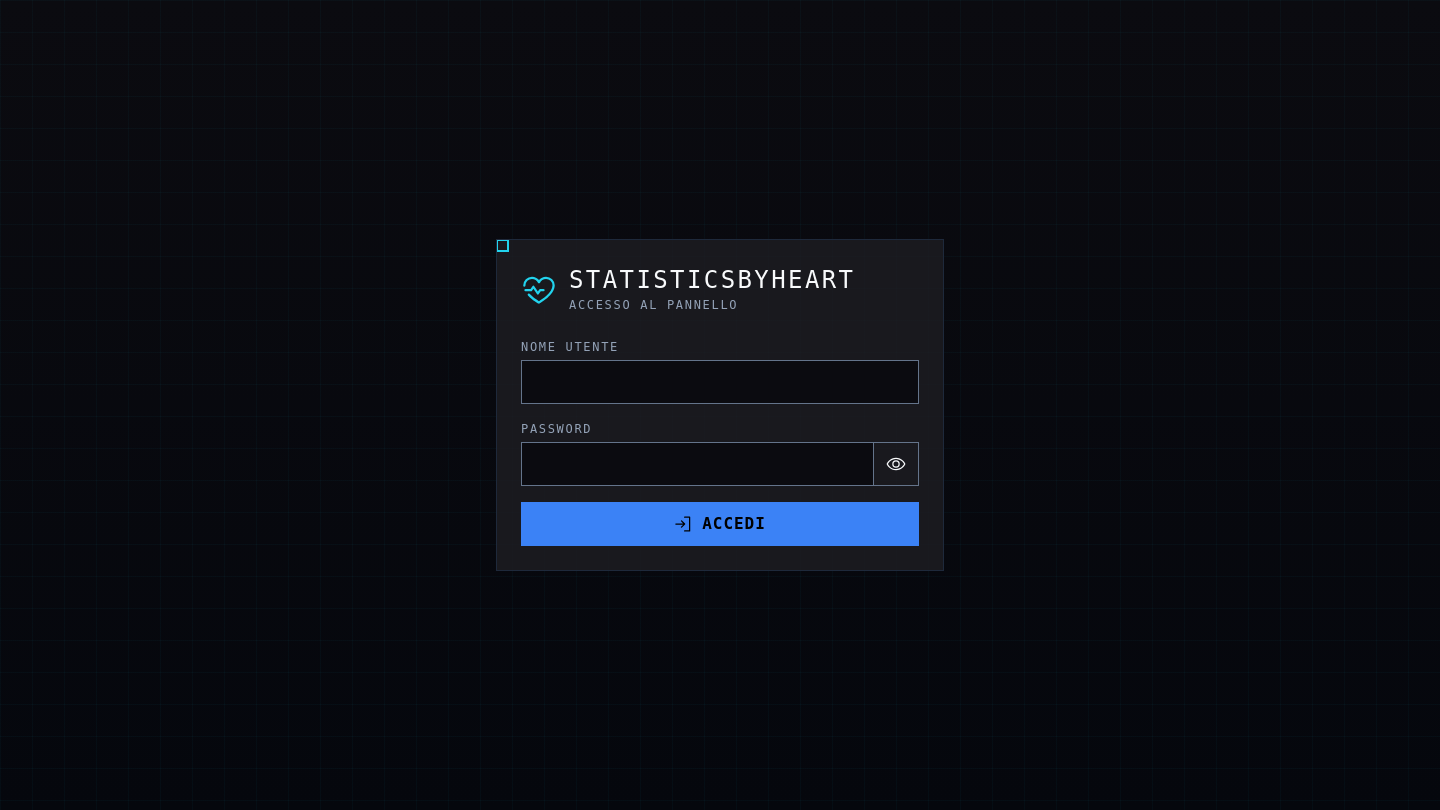
it: login › shows an alert for wrong credentials and allows reveal/paste
Type "admin" into the field labelled "Nome utente" at (720, 382), box [521, 360, 919, 404]
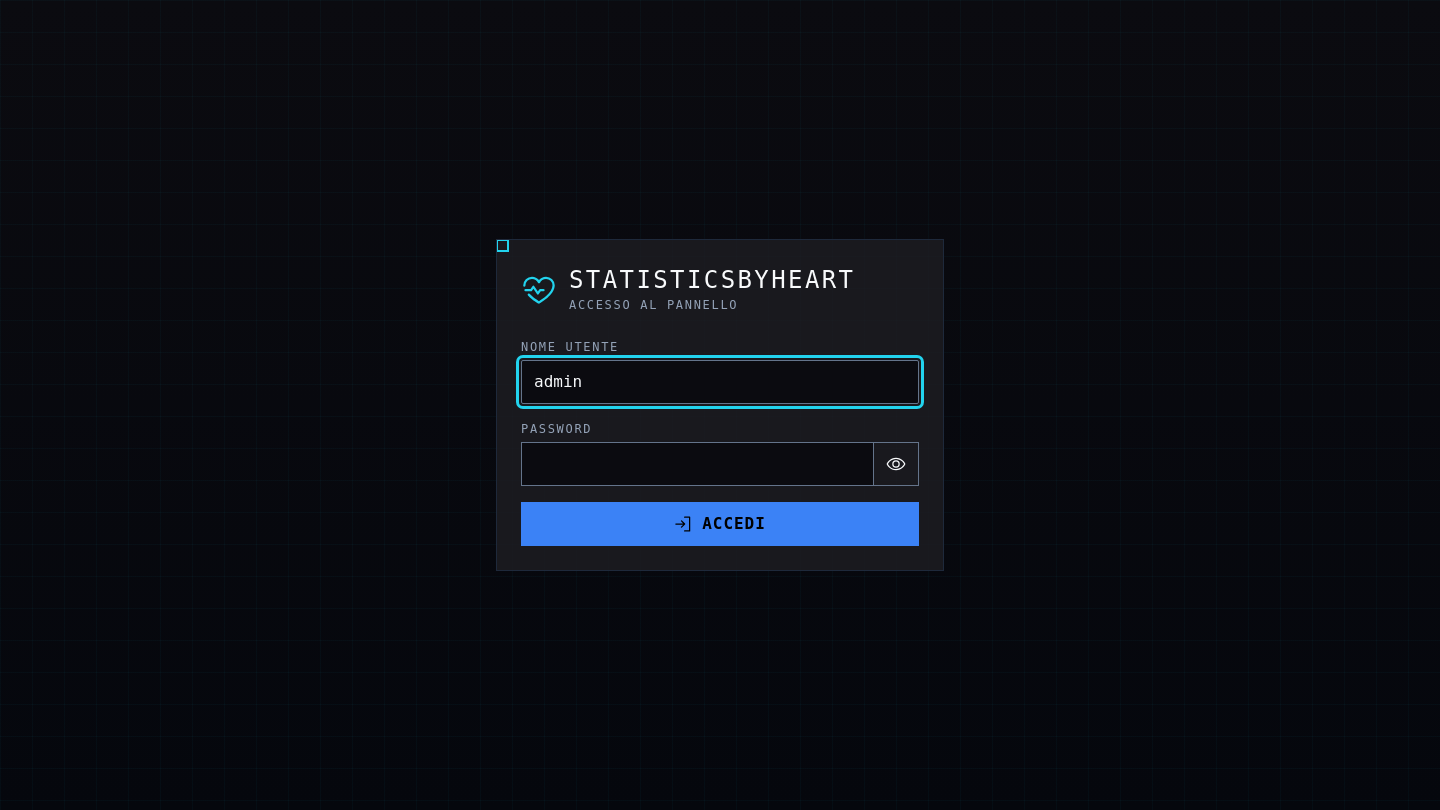
Click the password field labelled "Password" at (698, 464), box [521, 442, 874, 486]
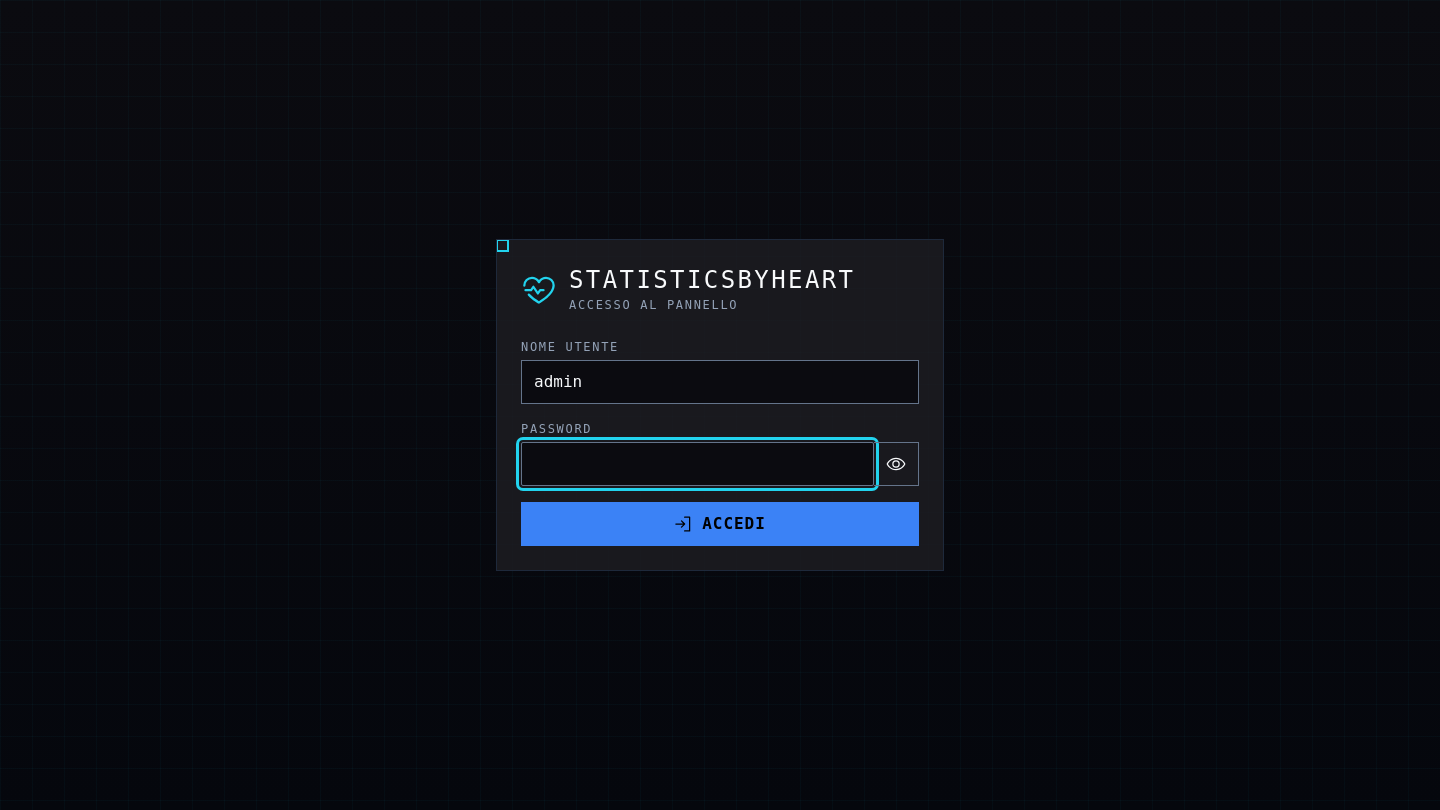
Type keys "segreta"
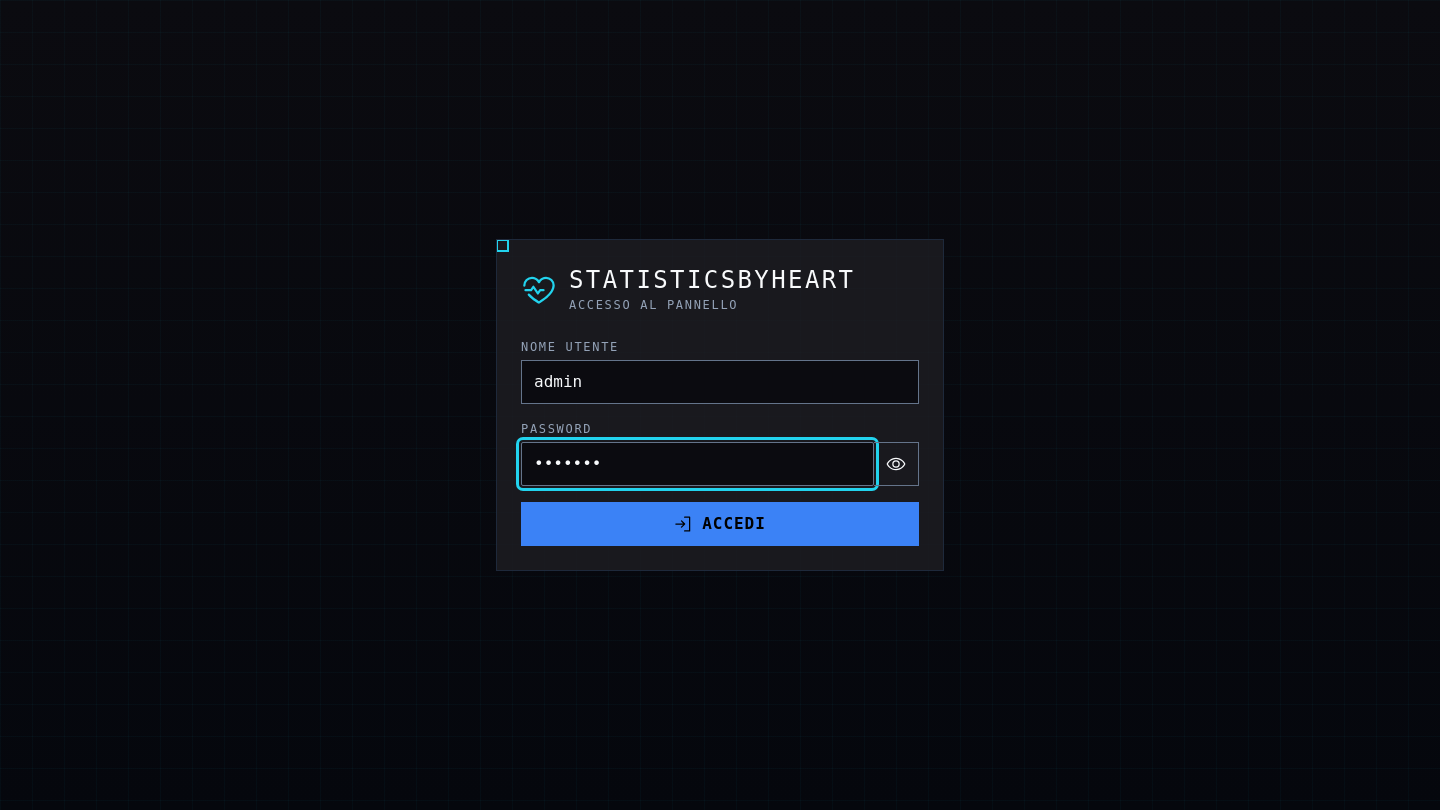
Expected: the password field labelled "Password" holds "segreta", [521, 442, 874, 486]
Click the button named "Mostra password" at (896, 464), box [874, 442, 919, 486]
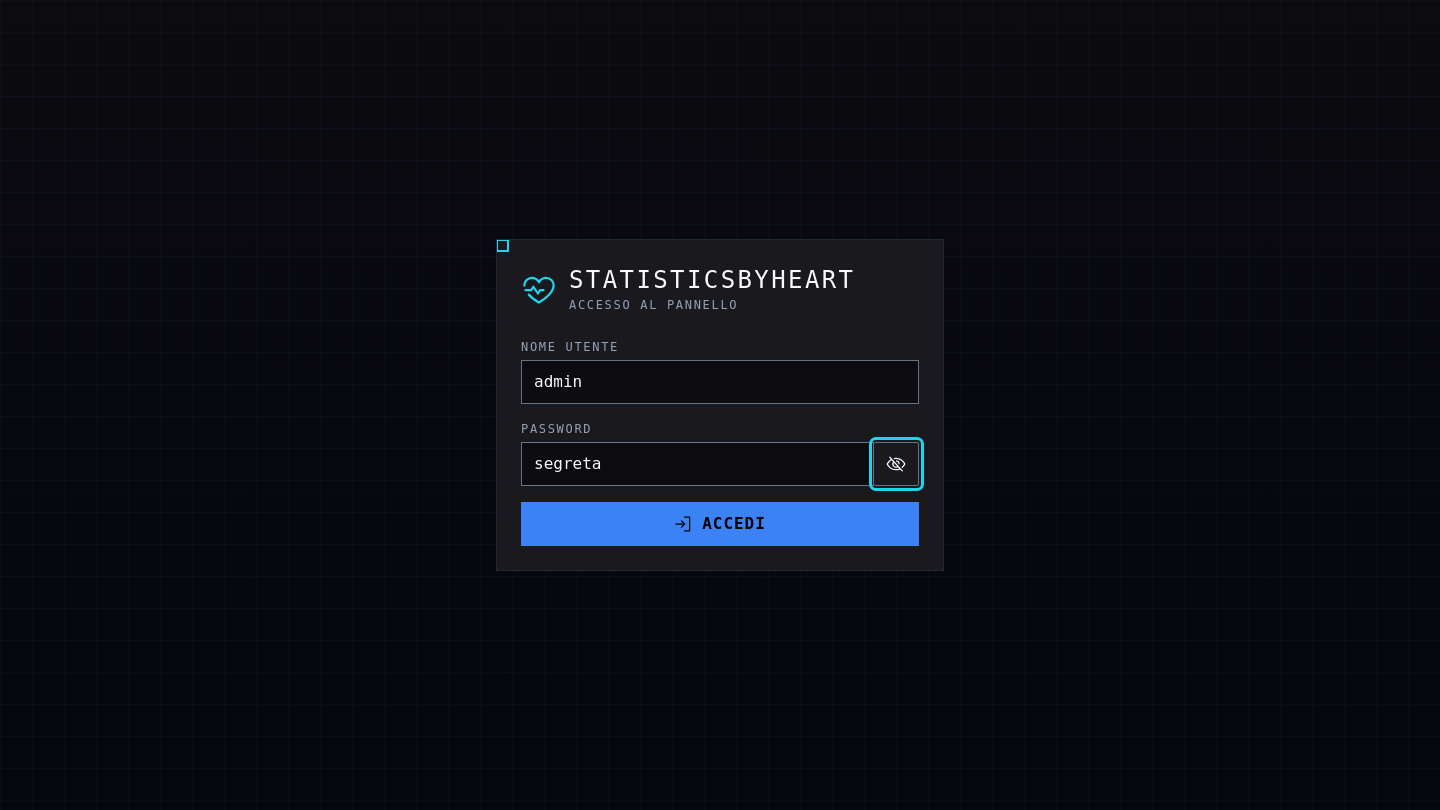
Expected: the field labelled "Password" shows its text, [521, 442, 874, 486]
Click the button "Accedi" at (720, 524), box [521, 502, 919, 546]
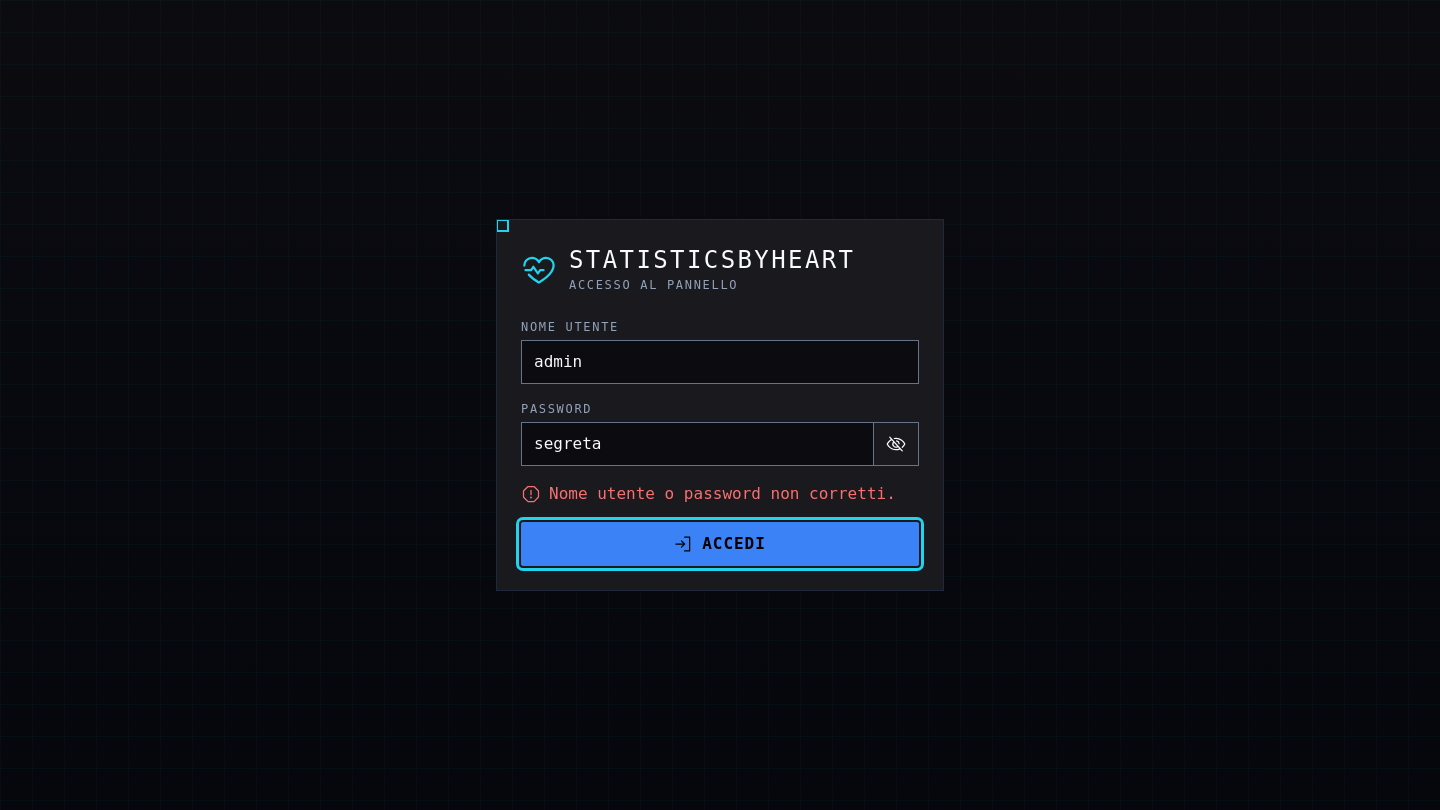
Expected: the message shows "non corretti", [549, 484, 896, 503]
